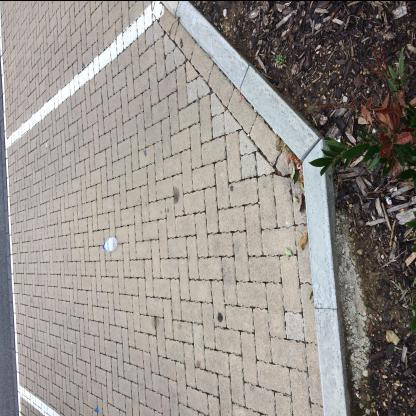plastik: (102, 235, 118, 251)
